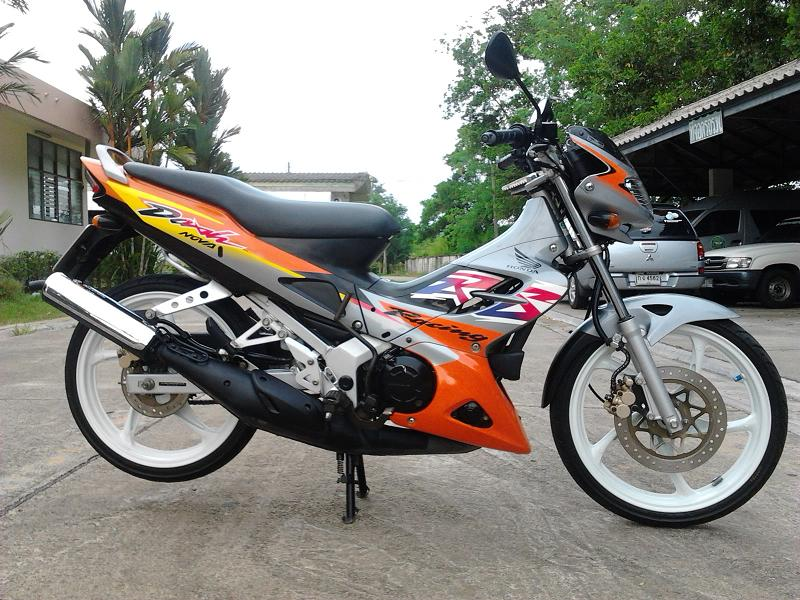motorcycle: (64, 121, 785, 525)
